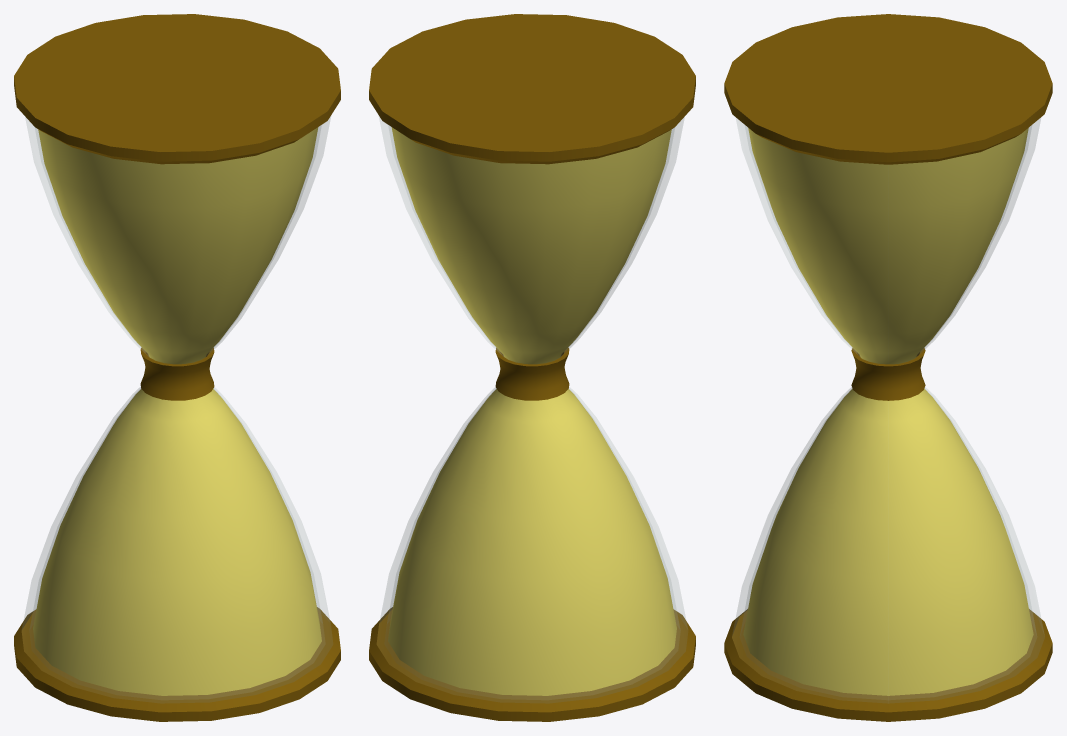
The model's file is Hourglass.fbx.
3 renders of one model, left to right at view 1: azimuth 30°, elevation 25°; view 2: azimuth 150°, elevation 25°; view 3: azimuth 270°, elevation 25°, orthographic.
Parts seen in each view (by area): view 1: HourGlass; view 2: HourGlass; view 3: HourGlass.
Boxes of the visible parts, <box> form: HourGlass: <box>14,14,340,721</box>; HourGlass: <box>369,14,695,721</box>; HourGlass: <box>724,14,1052,721</box>.
Size of the model in its own units: 200 by 200 by 382.
